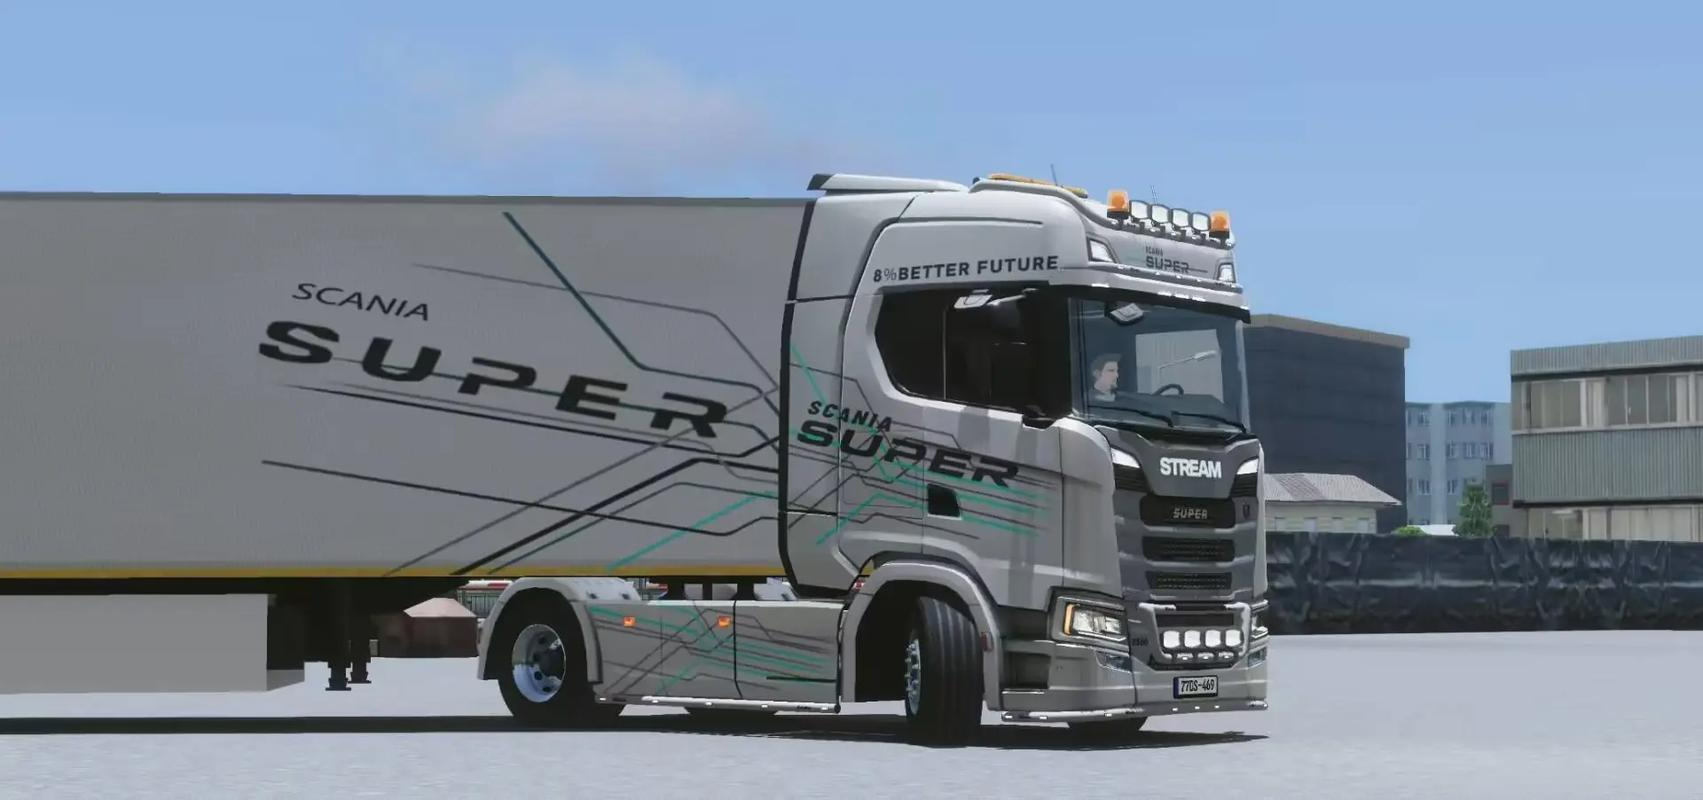卡车: (1, 150, 1295, 757)
